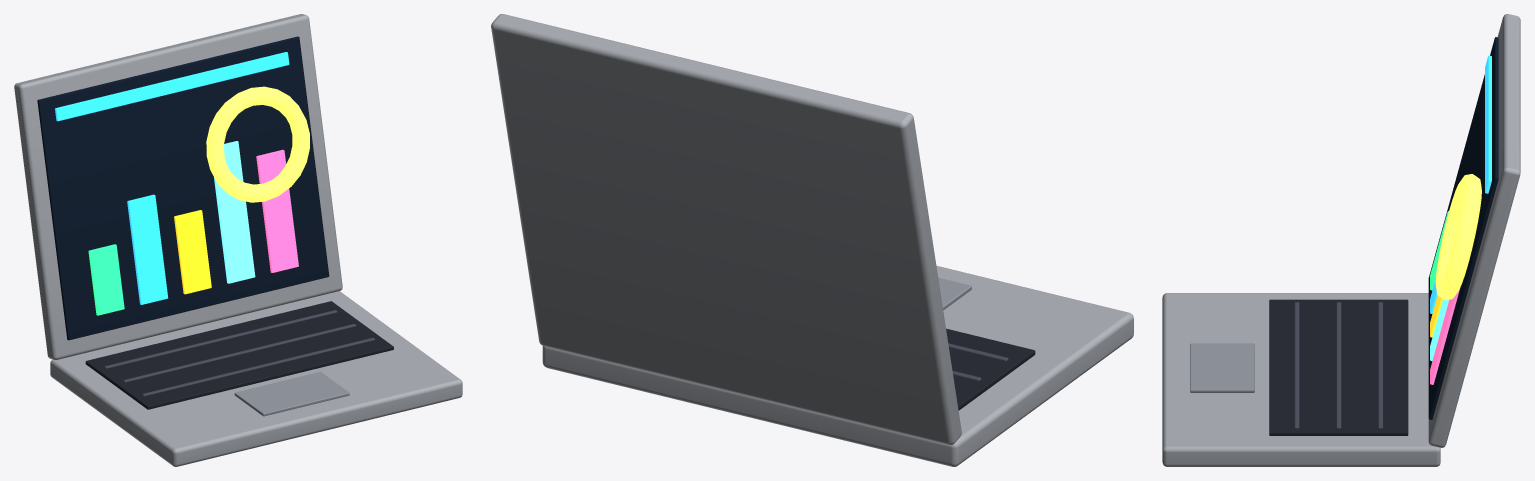
File: laptop.glb
3 renders of one model, left to right at view 1: azimuth 30°, elevation 25°; view 2: azimuth 150°, elevation 25°; view 3: azimuth 270°, elevation 25°, orthographic. The views are drawn at different scales.
Parts seen in each view (by area): view 1: laptop-solid, laptop-glow (×6); view 2: laptop-solid; view 3: laptop-solid, laptop-glow (×4).
Boxes of the visible parts, x1,y1,x2,y2 form: laptop-solid: (14,14,462,466); laptop-glow (×6): (55,52,309,315); laptop-solid: (491,14,1133,466); laptop-solid: (1162,14,1520,466); laptop-glow (×4): (1430,55,1491,384).
Bounding box in the file's own units: 0.3195 × 0.2841 × 0.3082.
